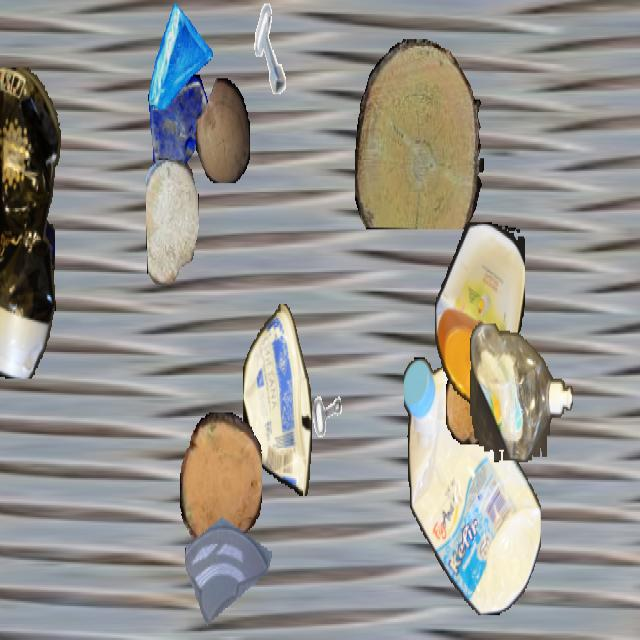glass: (185, 486, 271, 638), (146, 75, 212, 192), (147, 2, 213, 119)
metal: (293, 343, 351, 446), (246, 2, 298, 94)
plastic: (404, 356, 540, 615), (0, 67, 62, 377), (435, 222, 525, 404), (470, 324, 572, 462), (243, 304, 311, 496), (0, 160, 55, 306)
wood: (355, 39, 483, 228), (180, 413, 262, 551), (146, 158, 198, 283), (196, 78, 250, 182), (446, 362, 490, 444)
